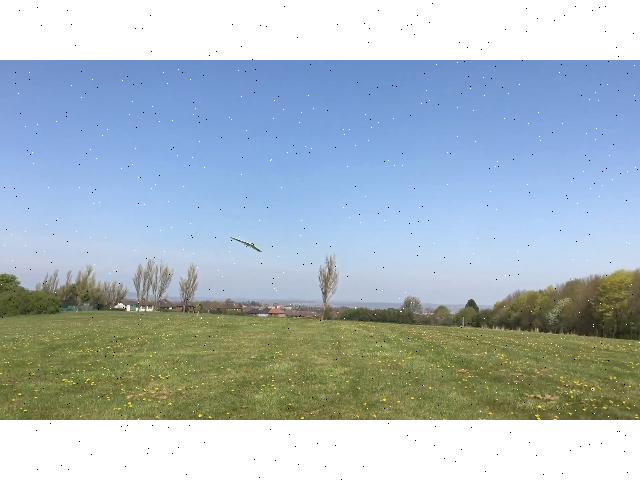Anti-Drone: (224, 226, 266, 254)
